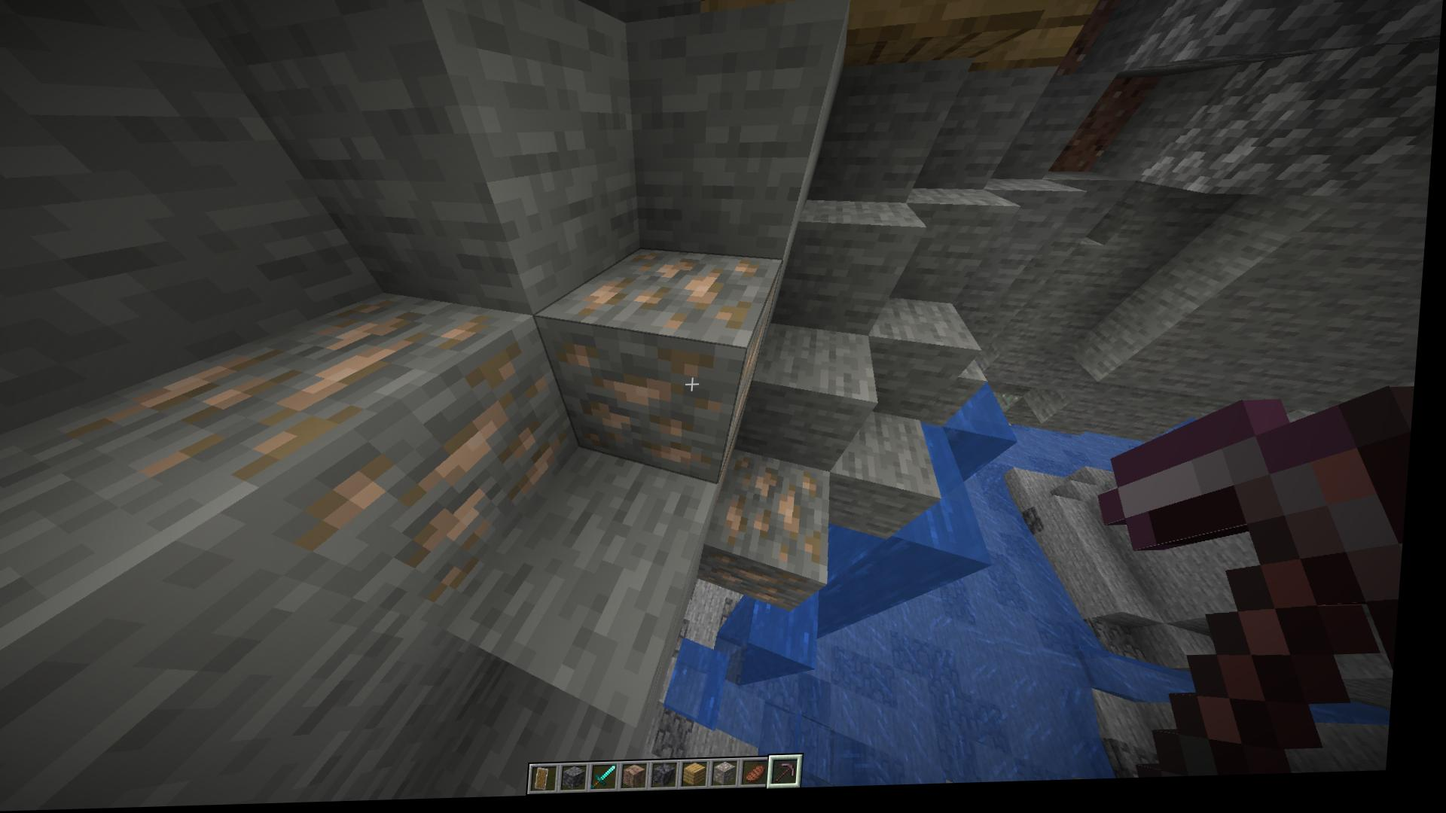iron ore: (84, 296, 479, 488), (308, 351, 566, 599), (556, 337, 749, 472), (572, 253, 785, 337), (718, 464, 847, 571), (709, 561, 821, 616)
